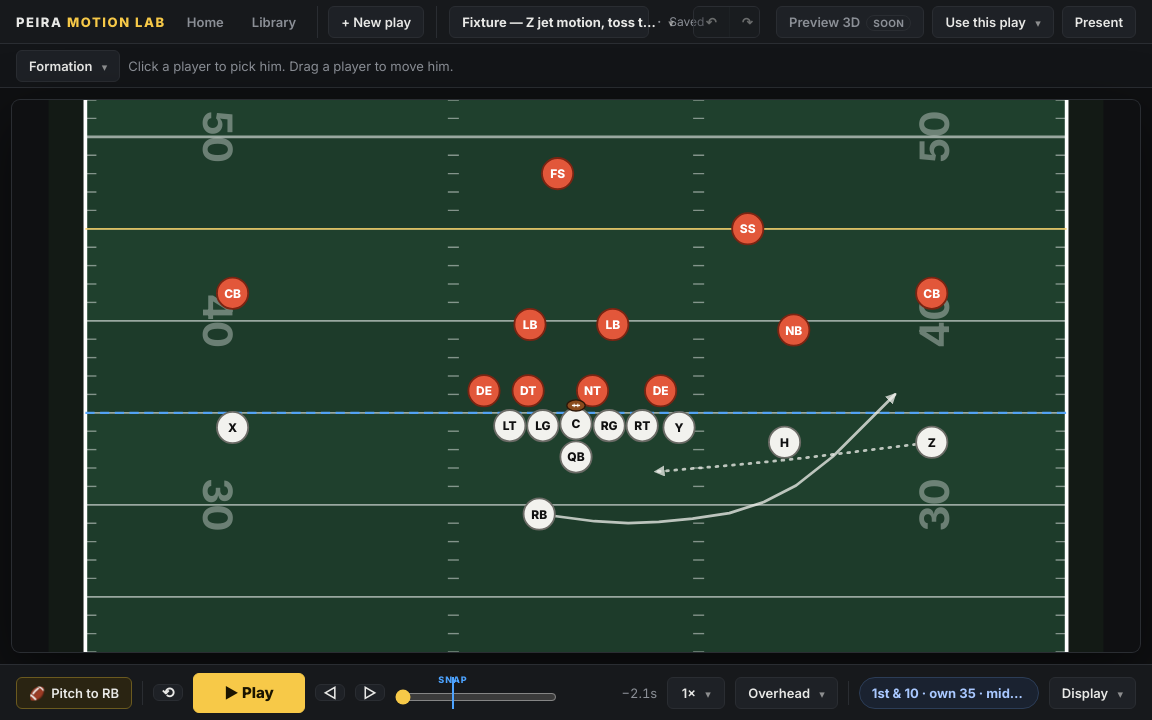
Test case: Use this play starts from the man on the field › with nobody selected, nobody is marked
Click the button "Use this play ▾" at (993, 22), box [932,6,1054,38]
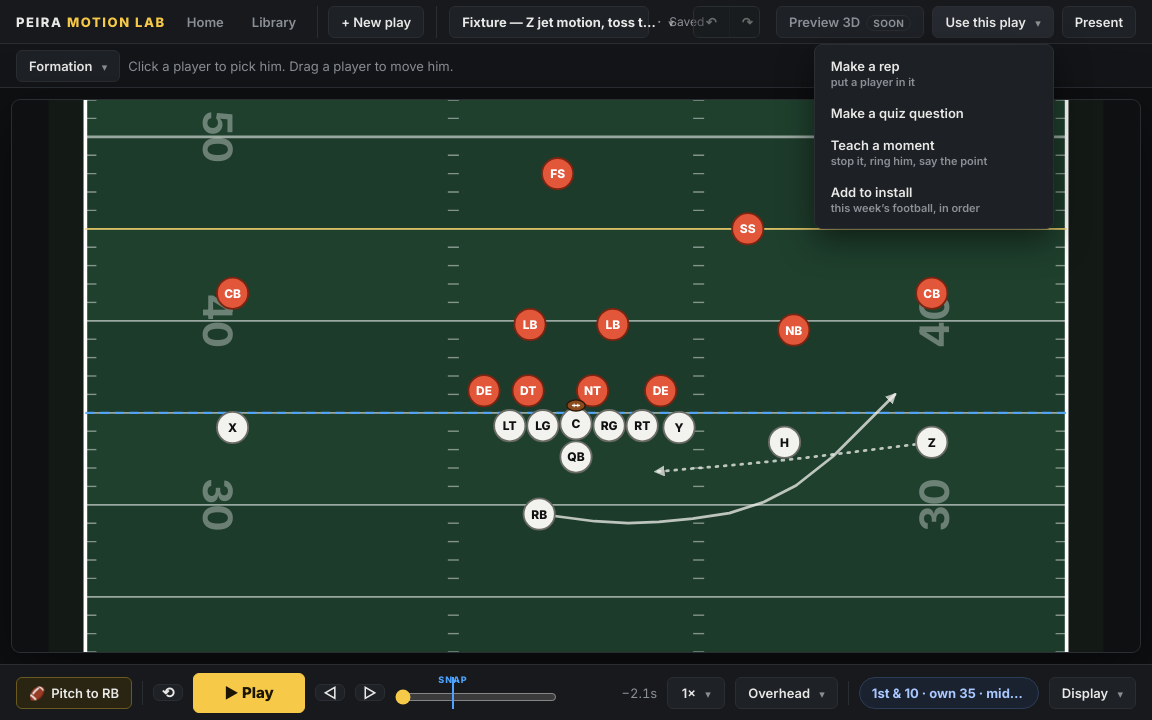
Click the menu item "Make a quiz question" at (934, 112), box [821,98,1047,128]
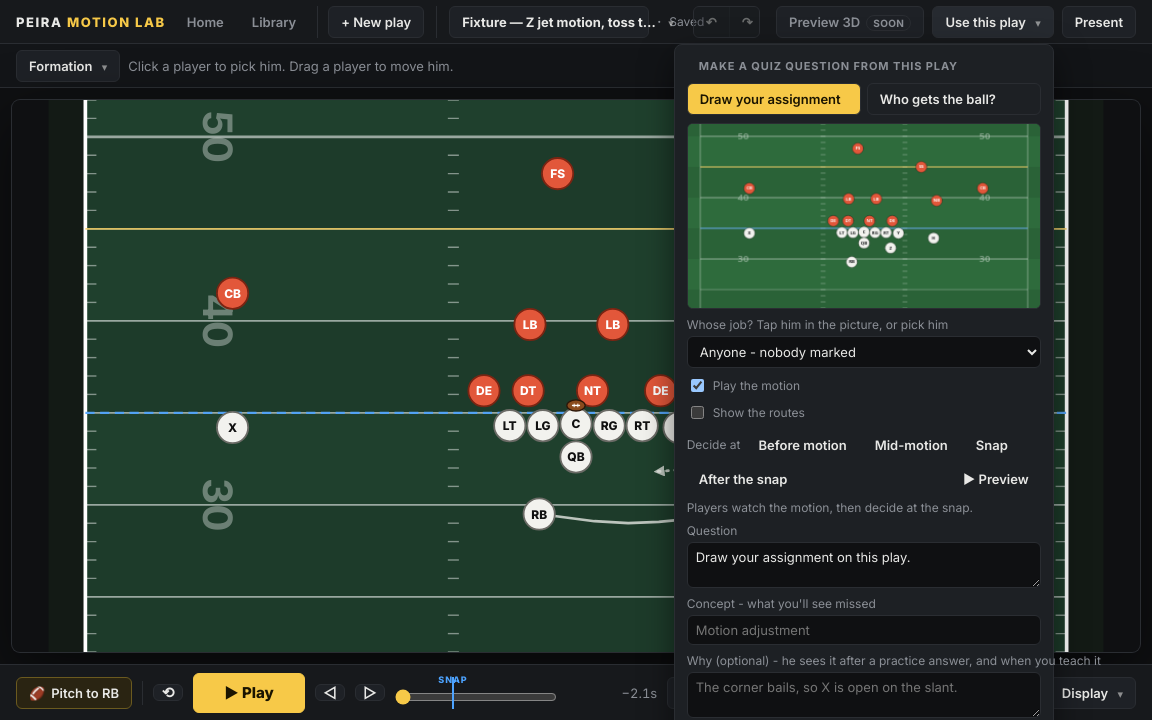
Result: the dropdown labelled "Whose job? Tap him in the picture, or pick him" shows "Anyone - nobody marked" at [687,336,1041,368]
